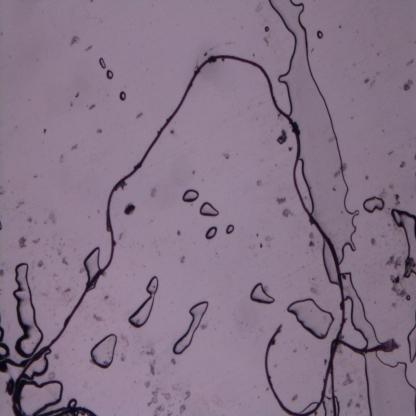Air bubble: (265, 0, 361, 254), (360, 350, 416, 416), (341, 273, 381, 349), (14, 262, 42, 360), (284, 293, 334, 337), (172, 300, 211, 356), (390, 206, 416, 276), (20, 376, 66, 414), (128, 275, 159, 329), (87, 332, 118, 367), (81, 244, 104, 284), (320, 241, 337, 285), (251, 282, 275, 306), (30, 355, 51, 379), (362, 197, 385, 215), (407, 323, 416, 364), (198, 202, 219, 218), (180, 188, 199, 203), (302, 399, 317, 414), (0, 338, 10, 358), (205, 225, 217, 240), (224, 222, 236, 235), (0, 324, 6, 342), (67, 398, 77, 408), (314, 30, 324, 40), (106, 69, 115, 80), (99, 58, 107, 70), (118, 91, 128, 100), (264, 23, 271, 33)
Background material: (390, 274, 410, 302), (56, 403, 94, 416), (385, 253, 403, 270), (122, 201, 137, 218), (158, 387, 172, 403), (276, 128, 287, 145), (89, 312, 104, 324), (143, 347, 160, 357), (34, 256, 46, 270), (368, 235, 380, 249), (218, 147, 232, 159), (121, 332, 131, 348), (5, 379, 15, 395), (402, 80, 415, 92), (152, 404, 165, 415), (149, 184, 159, 198), (148, 392, 157, 407), (68, 36, 80, 47), (141, 381, 153, 392), (148, 362, 158, 375), (394, 192, 403, 206), (50, 210, 58, 225), (62, 286, 74, 296), (363, 77, 373, 89), (276, 193, 286, 205), (308, 230, 316, 245), (20, 237, 28, 251), (255, 0, 263, 13), (55, 154, 68, 162), (178, 403, 186, 416), (31, 236, 42, 245), (262, 36, 270, 48), (405, 58, 415, 67), (172, 228, 182, 237), (399, 160, 408, 170), (282, 208, 292, 217), (182, 389, 192, 398), (15, 200, 26, 208), (120, 352, 128, 363), (136, 110, 144, 120), (332, 169, 340, 179), (85, 44, 93, 53), (69, 143, 78, 151), (0, 186, 7, 196), (180, 255, 187, 265), (62, 258, 70, 266), (286, 144, 294, 152), (387, 149, 395, 157), (25, 217, 33, 225), (89, 103, 98, 110), (0, 266, 5, 278), (378, 127, 386, 133), (168, 128, 176, 134), (171, 358, 177, 366), (323, 358, 328, 367), (258, 242, 264, 249), (389, 183, 395, 190), (256, 180, 263, 186), (96, 128, 103, 134), (375, 70, 382, 76), (255, 232, 260, 240), (119, 233, 124, 241), (55, 354, 61, 360), (104, 295, 110, 301), (74, 92, 80, 98), (370, 80, 376, 86), (69, 102, 74, 108), (310, 48, 315, 54), (0, 221, 3, 229), (338, 25, 342, 30), (365, 176, 369, 181), (332, 186, 336, 191), (204, 51, 207, 56), (44, 127, 46, 134), (351, 115, 354, 119), (384, 195, 388, 198)
Microfibre: (1, 53, 346, 416), (329, 336, 399, 416)
